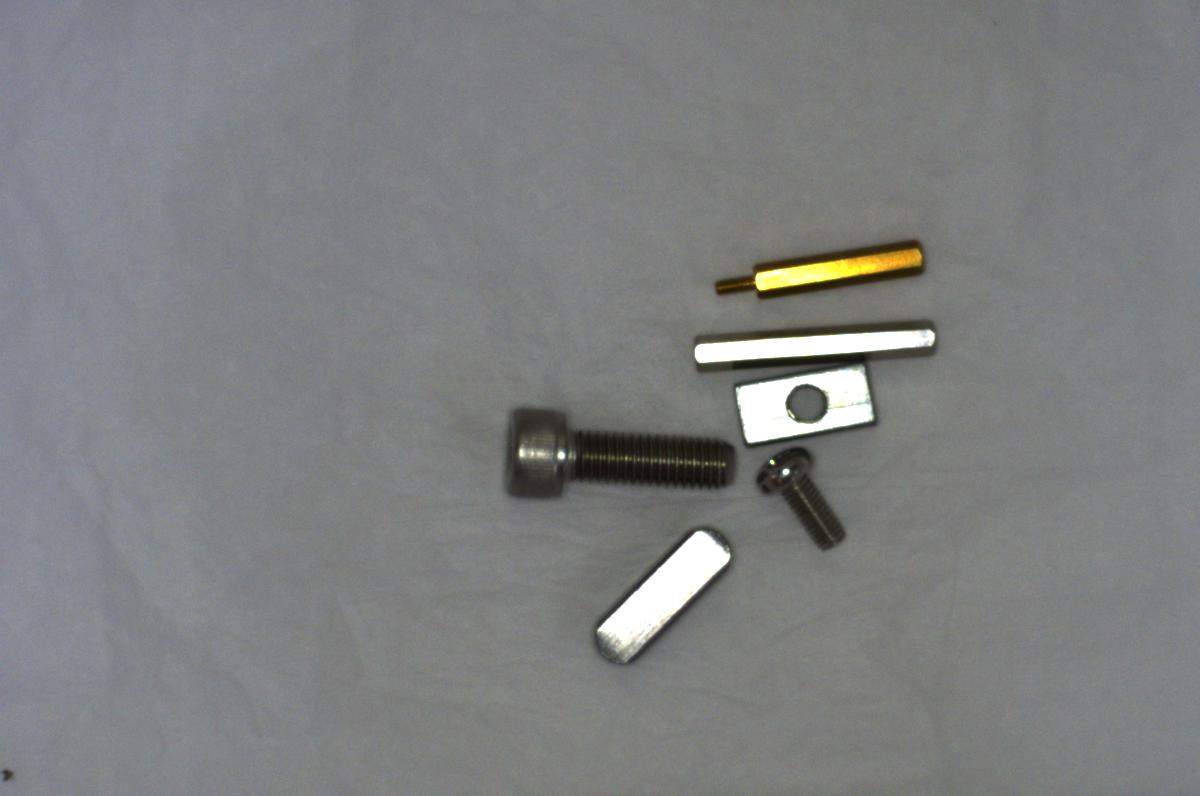Double hexagonal column: (685, 314, 951, 380)
Hexagon pillar: (710, 221, 930, 309)
Hexagon screw: (476, 395, 741, 517)
Keybar: (579, 519, 746, 676)
Rectangular nut: (732, 363, 883, 448)
Round head screw: (751, 441, 856, 551)
